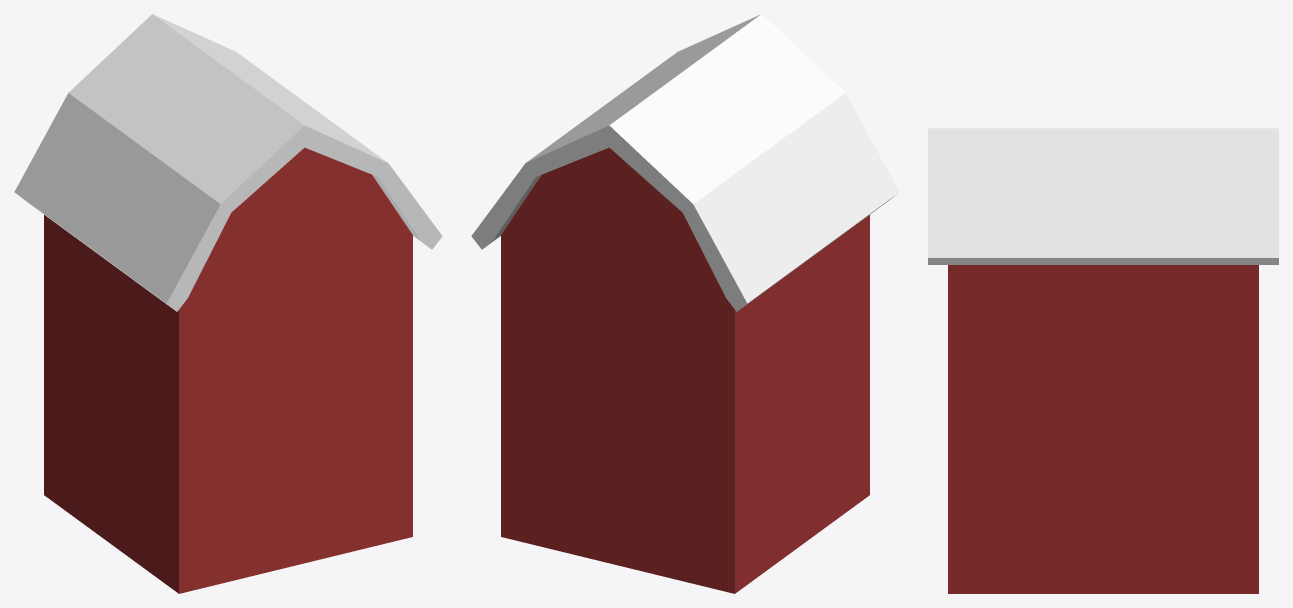
The model's file is BarnObj.fbx.
3 views of the same model, side by side, from view 1: azimuth 30°, elevation 25°; view 2: azimuth 150°, elevation 25°; view 3: azimuth 270°, elevation 25° (orthographic). The views are drawn at different scales.
Parts seen in each view (by area): view 1: Barn; view 2: Barn; view 3: Barn.
Part boxes in pixels (x1=…): Barn: x1=14, y1=14, x2=442, y2=593; Barn: x1=471, y1=14, x2=899, y2=593; Barn: x1=928, y1=14, x2=1278, y2=593.
Bounding box in the file's own units: 945 × 1460 × 903.
